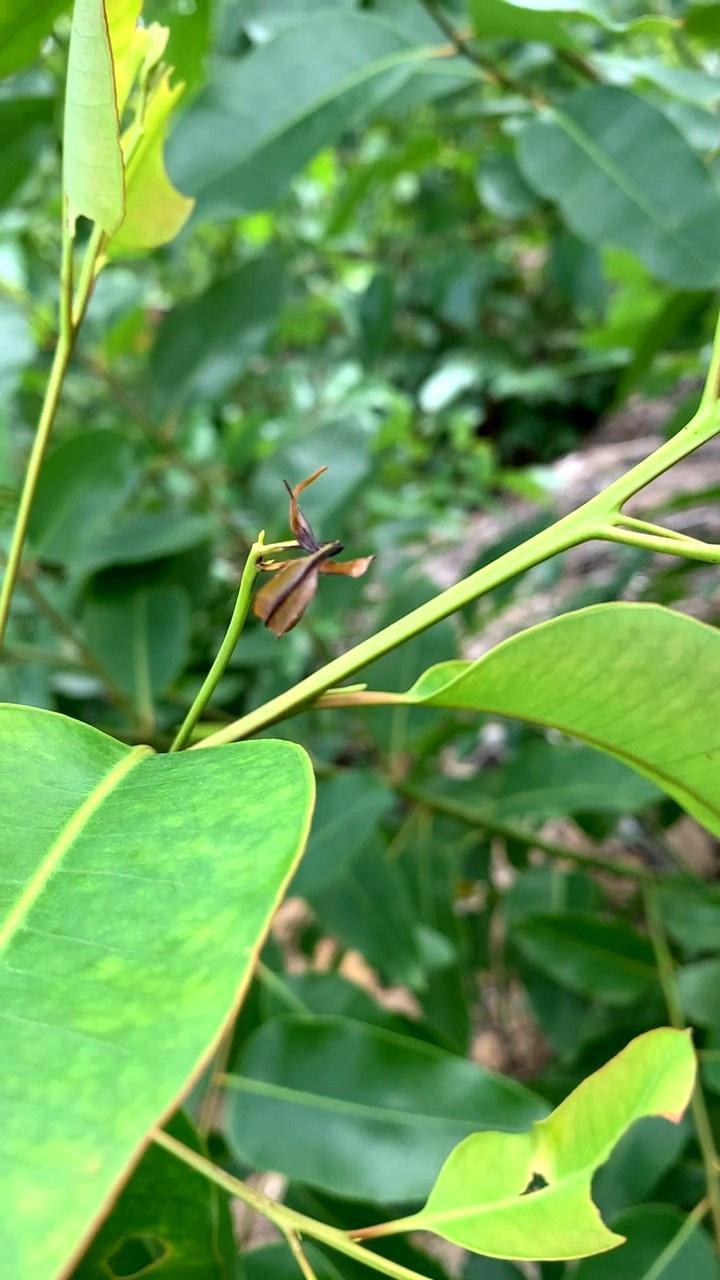Helopeltis-Withered Sprout: (235, 458, 369, 636)
